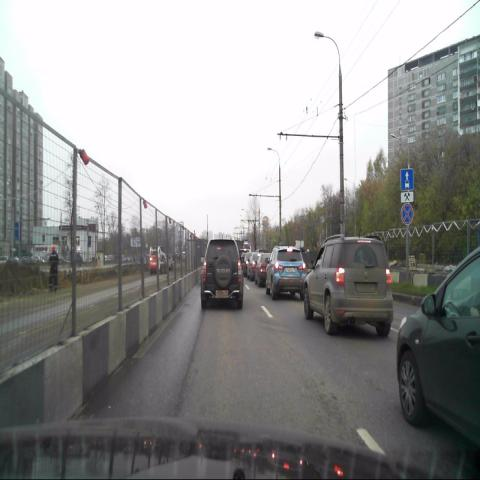5_14: (400, 169, 412, 191)
